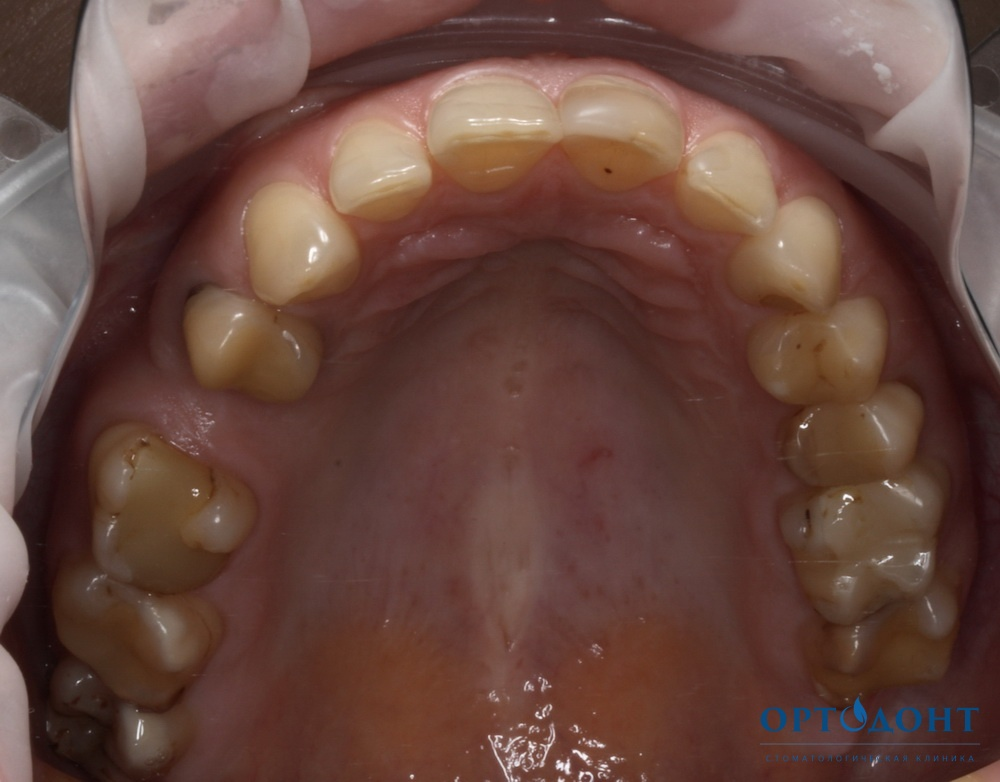UL1BC_decay: (750, 308, 886, 407)
UL1M_decay: (795, 486, 939, 616)
UL2BC_healthy: (794, 394, 923, 483)
UL2M_decay: (817, 610, 952, 695)
ULCI_decay: (559, 76, 683, 199)
ULC_decay: (742, 209, 840, 320)
ULLI_decay: (682, 132, 779, 246)
UR1BC_decay: (167, 285, 324, 404)
UR1M_decay: (59, 575, 236, 693)
UR2BC_decay: (96, 431, 250, 584)
UR2M_decay: (46, 669, 194, 775)
URCI_healthy: (426, 75, 559, 191)
URC_healthy: (245, 193, 360, 294)
URLI_healthy: (325, 120, 436, 217)
